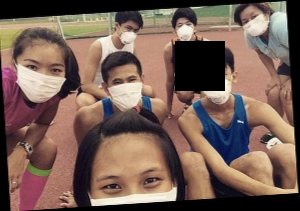with_mask: (88, 167, 177, 203), (17, 54, 67, 102), (107, 74, 144, 111), (200, 67, 234, 103), (242, 10, 269, 37), (174, 19, 197, 42), (118, 23, 139, 44)
